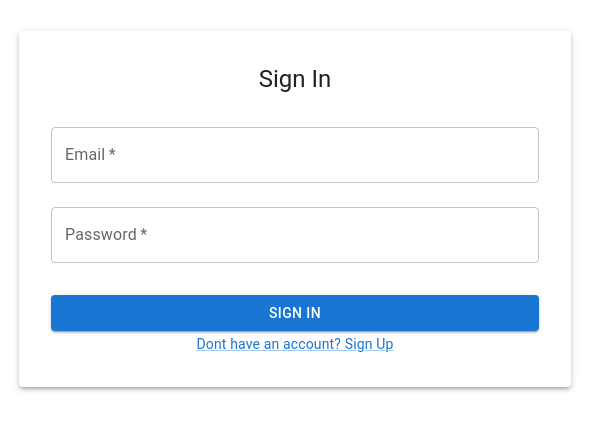
it: Signin Component › Error for Empty form submission
Click the button with test id "signin-btn": (295, 313) [51, 295, 539, 331]
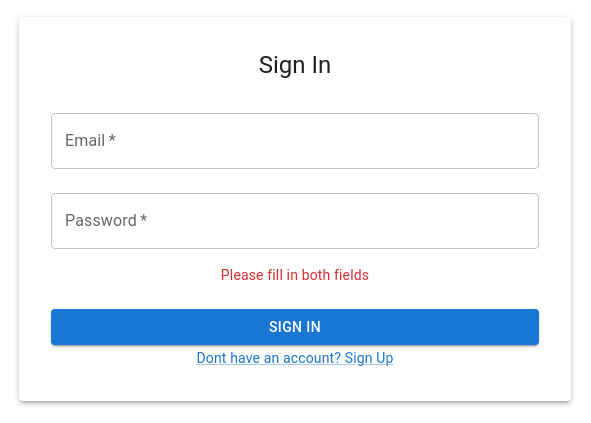
Expected: the text "Please fill in both fields" is shown, [221, 267, 369, 283]
